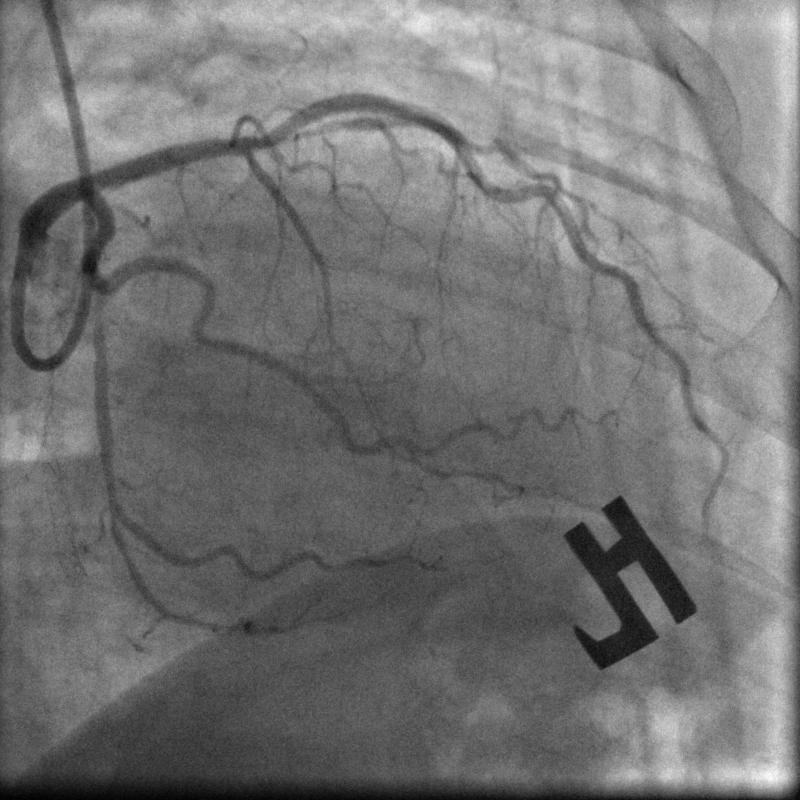Stenosis: (80, 247, 119, 293)
